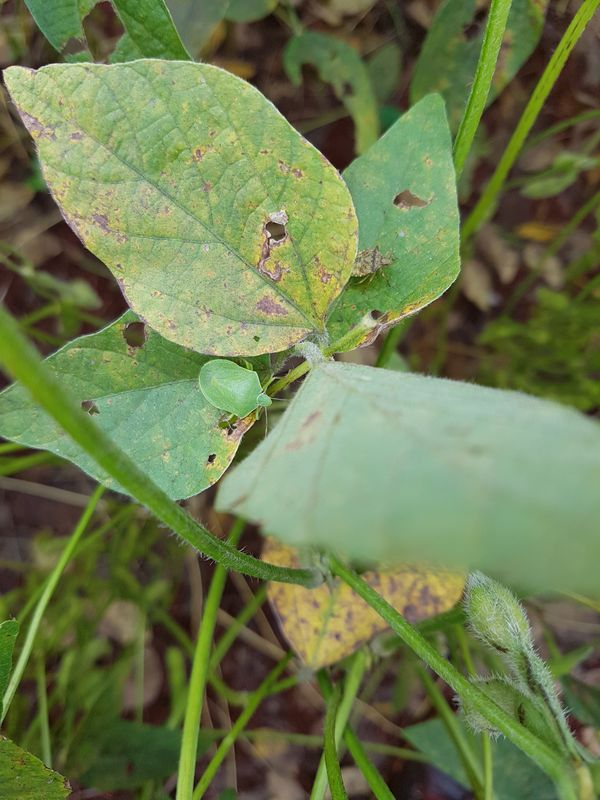Nezara_viridula_adulto: (193, 355, 283, 430)
